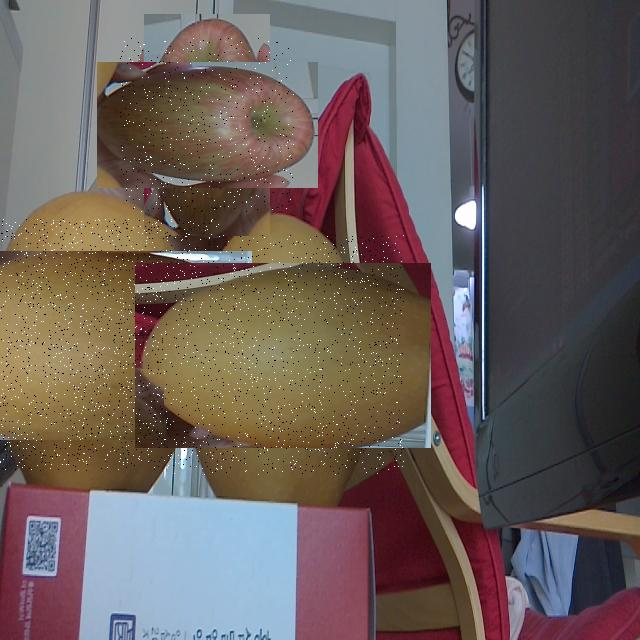apple: (120, 38, 294, 212)
pear: (163, 235, 404, 475), (0, 219, 221, 471)
